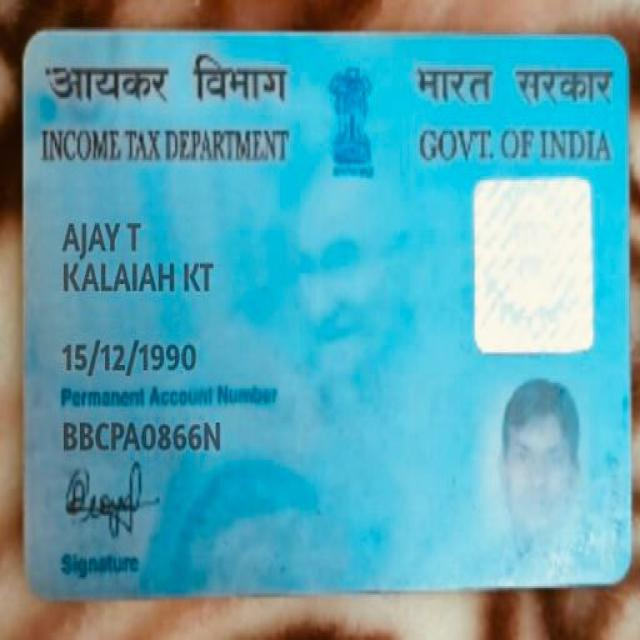pan_card: (26, 34, 629, 592)
